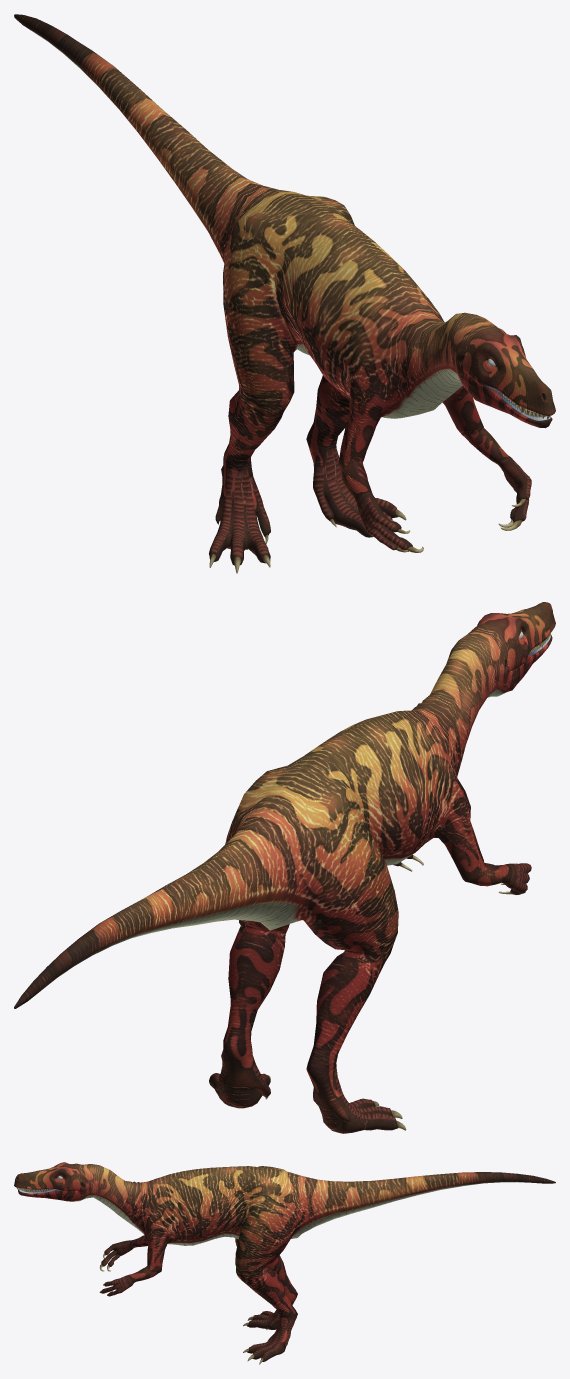
Rendered from jurassic_park_the_game_herrerasaurus.glb.
3 views of the same model, one above another, from view 1: azimuth 30°, elevation 25°; view 2: azimuth 150°, elevation 25°; view 3: azimuth 270°, elevation 25° (orthographic). The views are drawn at different scales.
Visible parts, largest first — view 1: herrerasaurus; view 2: herrerasaurus; view 3: herrerasaurus.
Boxes of the visible parts, <box> form: herrerasaurus: <box>14,14,555,573</box>; herrerasaurus: <box>14,602,555,1133</box>; herrerasaurus: <box>14,1162,555,1364</box>.
Bounding box in the file's own units: 0.7145 × 1.21 × 3.38.
Materials: 5 (5 with a texture image).
